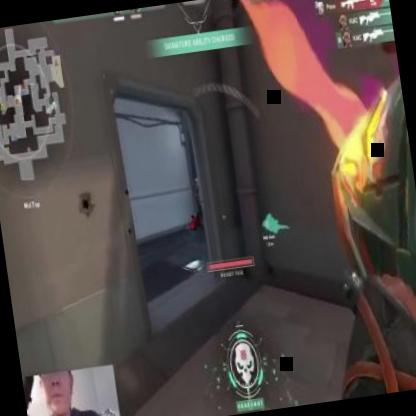enemy: (190, 171, 211, 234)
enemy_head: (194, 174, 200, 186)
